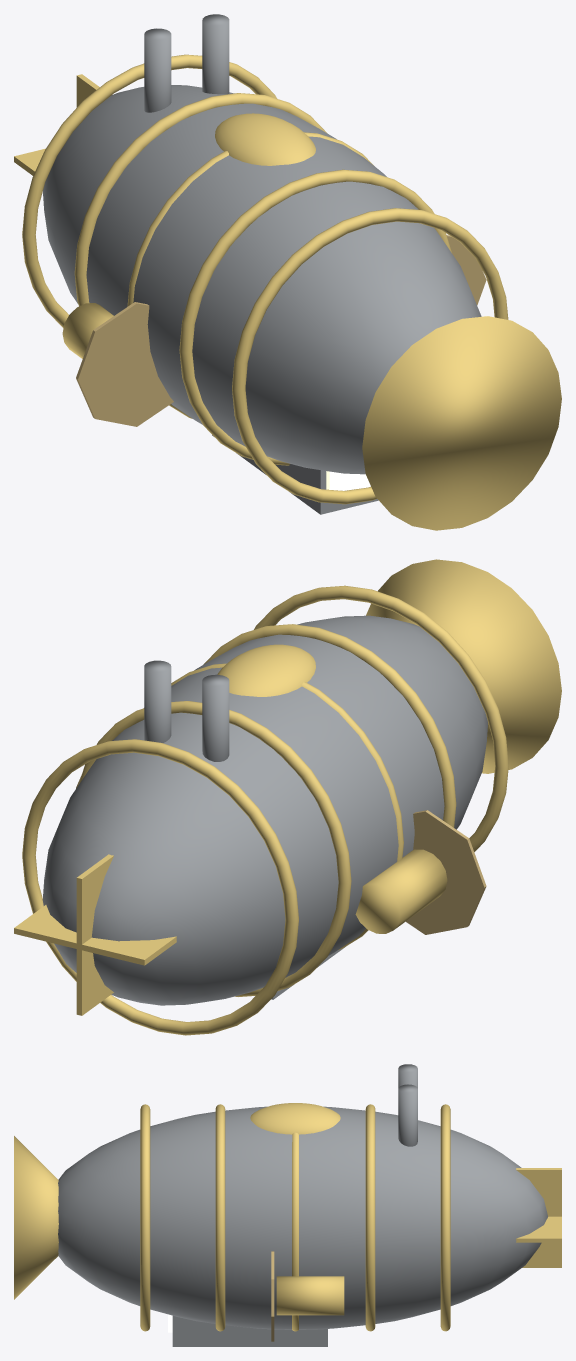
Rendered from enemy_zeppelin_sky_hull.glb.
3 renders of one model, top to bottom at view 1: azimuth 30°, elevation 25°; view 2: azimuth 150°, elevation 25°; view 3: azimuth 270°, elevation 25°, orthographic. The views are drawn at different scales.
Parts seen in each view (by area): view 1: Sphere, Cone, Torus, Cylinder.003, Torus.001, Torus.004, Torus.003, Sphere.001, Cylinder, Cylinder.001, Cylinder.002, Torus.002 (+3 smaller); view 2: Sphere, Cone, Torus.004, Torus, Torus.003, Cylinder.003, Cylinder.002, Torus.001, Sphere.001, Cube.002, Cube.003, Cylinder (+2 smaller); view 3: Sphere, Cone, Cube, Cylinder.004, Torus, Torus.001, Torus.003, Torus.004, Sphere.001, Cube.002, Cylinder.001, Torus.002 (+3 smaller).
Part boxes in pixels (x1=…): Sphere: x1=43, y1=85, x2=481, y2=474; Cone: x1=362, y1=316, x2=561, y2=530; Torus: x1=232, y1=208, x2=508, y2=504; Cylinder.003: x1=76, y1=302, x2=173, y2=426; Torus.001: x1=179, y1=169, x2=451, y2=465; Torus.004: x1=22, y1=54, x2=277, y2=327; Torus.003: x1=74, y1=93, x2=327, y2=306; Sphere.001: x1=215, y1=113, x2=315, y2=165; Cylinder: x1=144, y1=28, x2=171, y2=112; Cylinder.001: x1=202, y1=14, x2=229, y2=94; Cylinder.002: x1=62, y1=303, x2=113, y2=358; Torus.002: x1=127, y1=132, x2=373, y2=418; Sphere: x1=42, y1=615, x2=487, y2=1005; Cone: x1=366, y1=559, x2=561, y2=773; Torus.004: x1=22, y1=739, x2=298, y2=1035; Torus: x1=254, y1=585, x2=508, y2=851; Torus.003: x1=79, y1=701, x2=351, y2=996; Cylinder.003: x1=406, y1=810, x2=486, y2=934; Cylinder.002: x1=355, y1=849, x2=447, y2=933; Torus.001: x1=203, y1=624, x2=456, y2=827; Sphere.001: x1=217, y1=644, x2=315, y2=696; Cube.002: x1=76, y1=854, x2=113, y2=1015; Cube.003: x1=14, y1=905, x2=176, y2=965; Cylinder: x1=202, y1=674, x2=229, y2=761; Sphere: x1=58, y1=1106, x2=547, y2=1329; Cone: x1=14, y1=1136, x2=58, y2=1299; Cube: x1=172, y1=1315, x2=327, y2=1346; Cylinder.004: x1=276, y1=1276, x2=344, y2=1315; Torus: x1=140, y1=1104, x2=150, y2=1331; Torus.001: x1=215, y1=1104, x2=225, y2=1331; Torus.003: x1=365, y1=1104, x2=375, y2=1331; Torus.004: x1=440, y1=1104, x2=450, y2=1331; Sphere.001: x1=250, y1=1103, x2=340, y2=1134; Cube.002: x1=516, y1=1168, x2=561, y2=1267; Cylinder.001: x1=398, y1=1084, x2=417, y2=1146; Torus.002: x1=292, y1=1132, x2=298, y2=1331.
Size of the model in its own units: 4.5 by 3.79 by 7.3.
